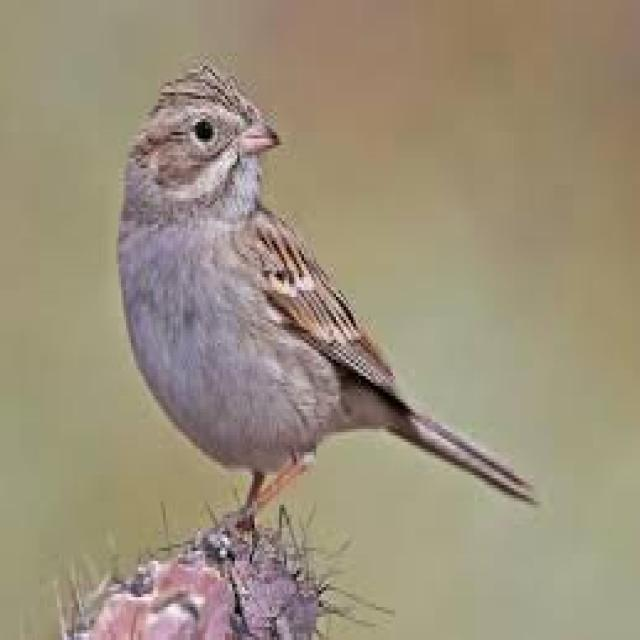sparrow: (119, 66, 531, 525)
